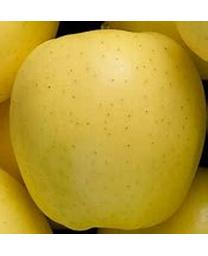apple: (10, 22, 206, 231)
